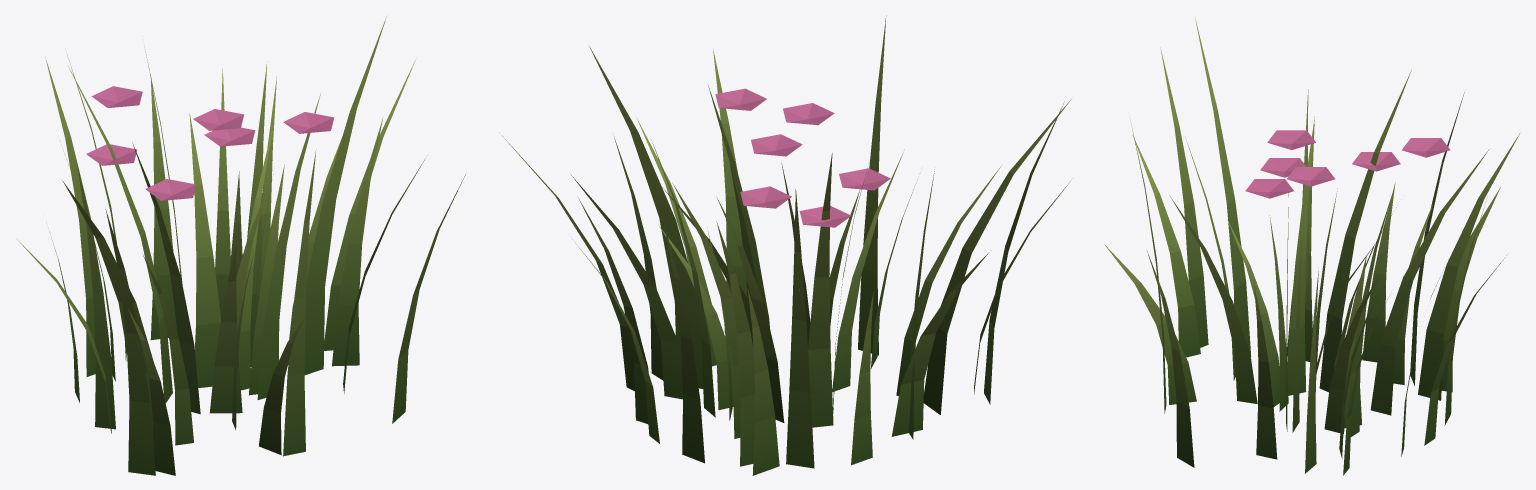
File: SM_Grass_FlowersPink.fbx
The picture shows the model from 3 angles, left to right: view 1: azimuth 30°, elevation 25°; view 2: azimuth 150°, elevation 25°; view 3: azimuth 270°, elevation 25°; orthographic projection. The views are drawn at different scales.
Parts seen in each view (by area): view 1: SM_Grass_FlowersPink; view 2: SM_Grass_FlowersPink; view 3: SM_Grass_FlowersPink.
Part boxes in pixels (left/top/right/bottom): SM_Grass_FlowersPink: left=17, top=16, right=465, bottom=475; SM_Grass_FlowersPink: left=502, top=15, right=1071, bottom=475; SM_Grass_FlowersPink: left=1104, top=17, right=1519, bottom=475.
Size of the model in its own units: 0.9674 by 0.6547 by 0.8094.
